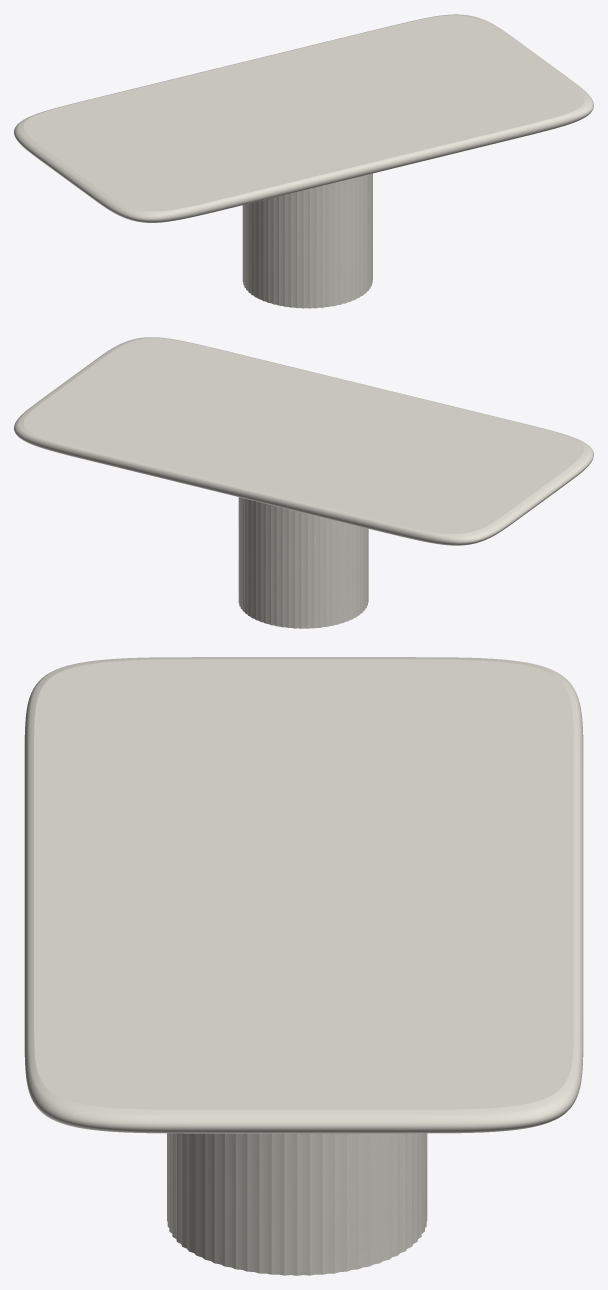
The model's file is pale_softrecta_round_ripple.glb.
3 views of the same model, one above another, from view 1: azimuth 30°, elevation 25°; view 2: azimuth 150°, elevation 25°; view 3: azimuth 270°, elevation 25° (orthographic). The views are drawn at different scales.
Parts seen in each view (by area): view 1: round_softrecta, ripple; view 2: round_softrecta, ripple; view 3: round_softrecta, ripple.
Part boxes in pixels (x1,y1,x2,y2): round_softrecta: [14, 14, 593, 222]; ripple: [242, 173, 372, 308]; round_softrecta: [14, 337, 593, 545]; ripple: [238, 497, 368, 628]; round_softrecta: [24, 657, 583, 1133]; ripple: [167, 1133, 427, 1275].
Size of the model in its own units: 7.5 by 2.51 by 3.8.
1 material, 1 textured.
